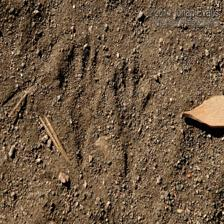rat: (100, 60, 156, 154)
